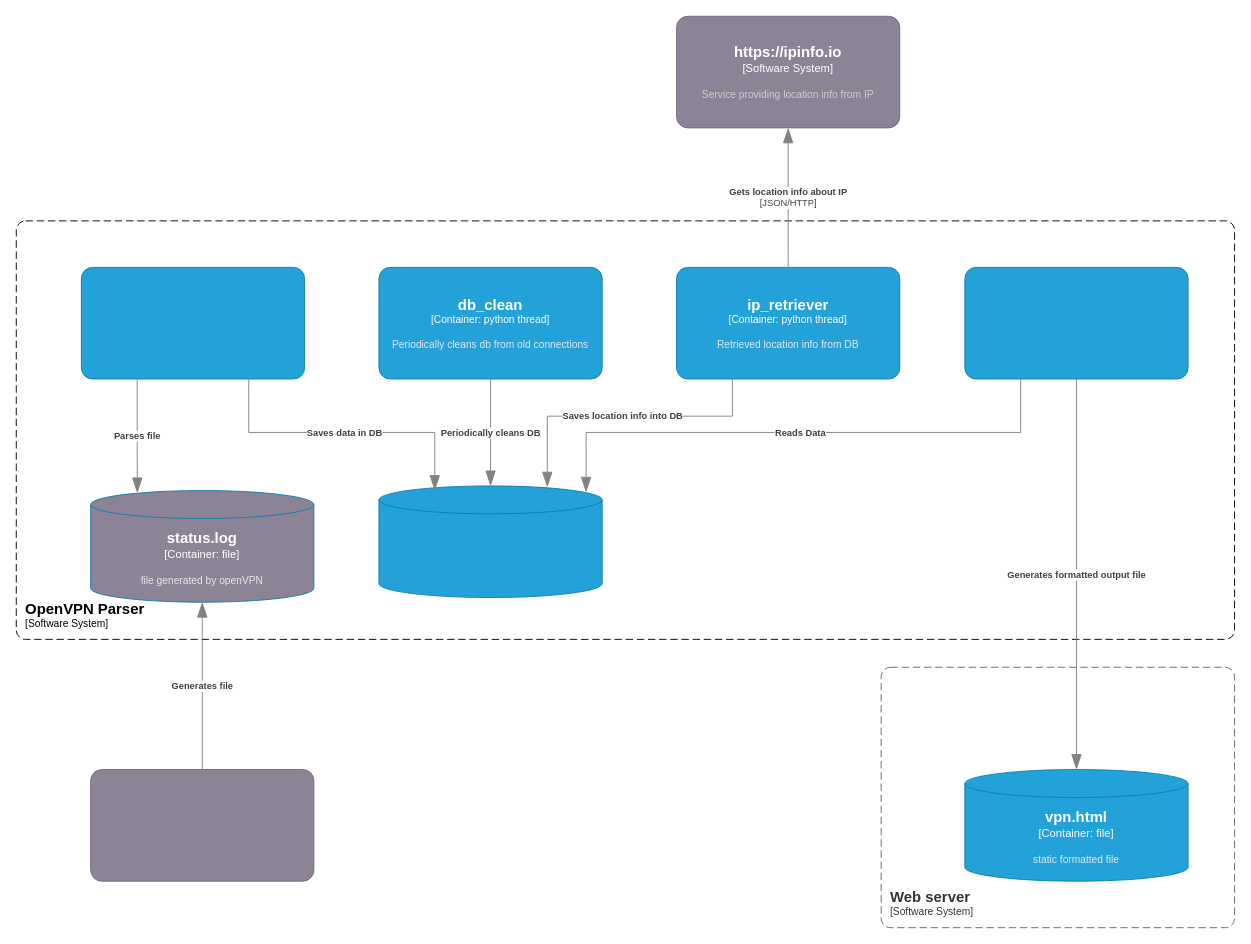
Image size: 1251x944. Some labels were removed from this diagram. The box of each missing label's shape, as (x1, y1, x2, y2) in pixels:
connection.db [Container: sqlite3 db] Stores connections and IPs: (378, 485, 602, 598)
file_parser [Container: python thread] parses openvpn status file: (80, 266, 305, 379)
OpenVPN [Software System] Description of external software system.: (90, 769, 314, 881)
output_web_file_generator [Container: python thread] Generates html file: (964, 266, 1188, 379)
